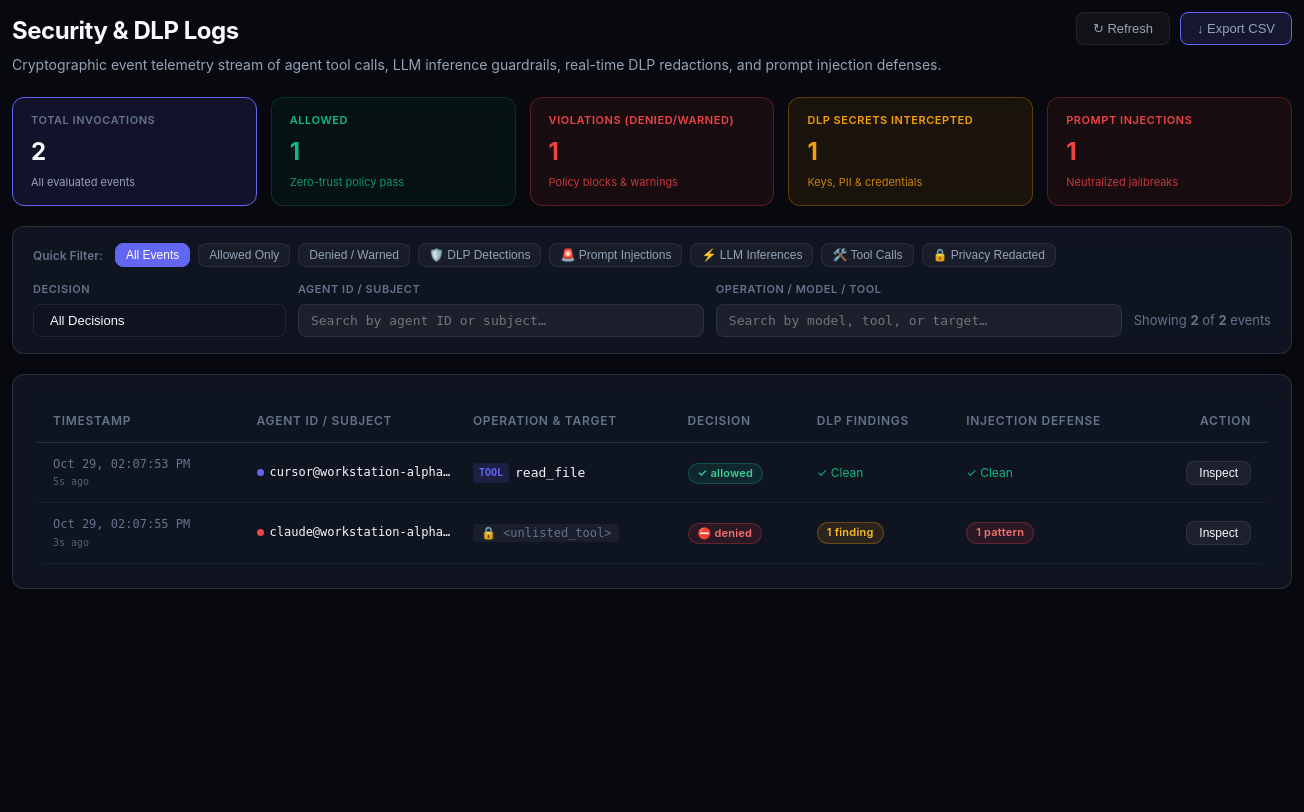
Test: AuditLogs View › filters by agent name search
Check: the text "cursor@workstation-alpha" is shown, box [256,463,443,482]
Type "cursor" into the field with placeholder "Search by agent ID or subject…" at (501, 320), box [298,304,704,337]
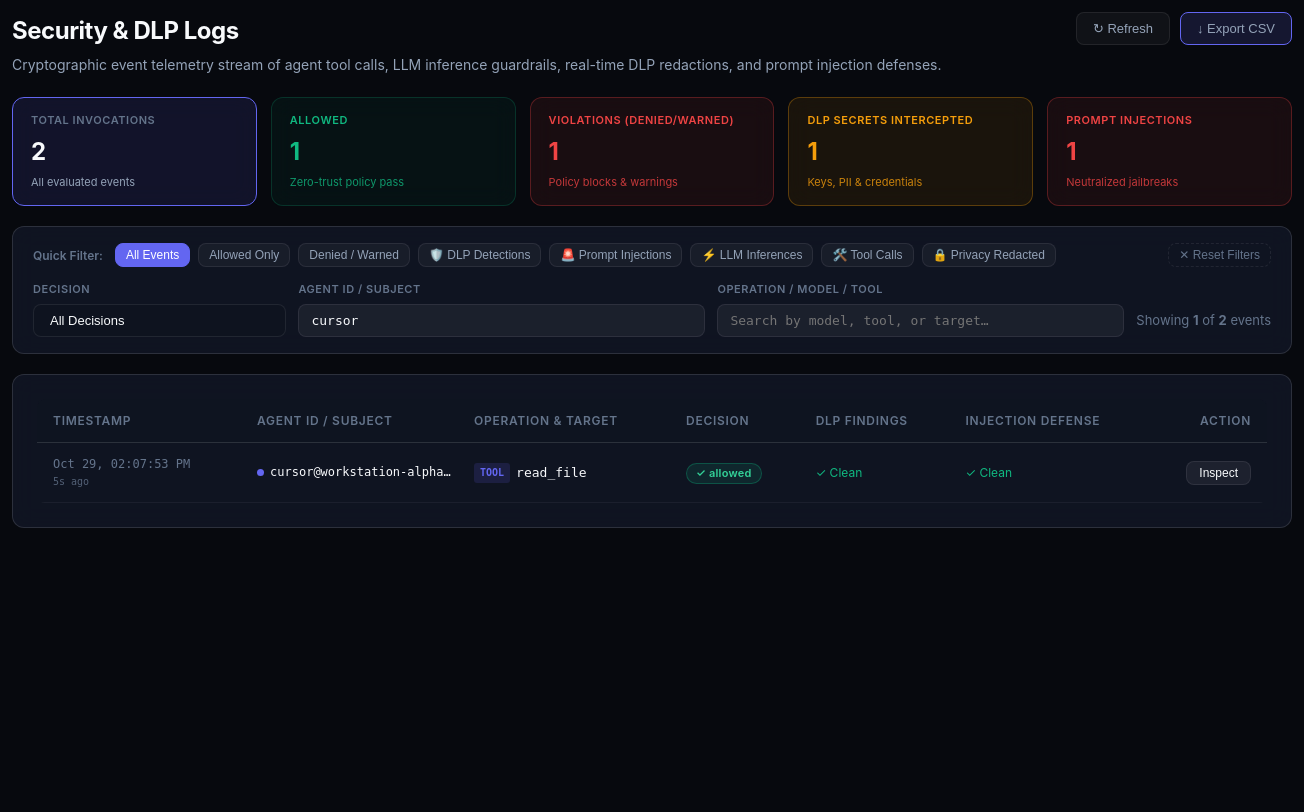
Check: the text "cursor@workstation-alpha" is shown, box [257,463,443,482]
Check: the text "claude@workstation-alpha" is gone
